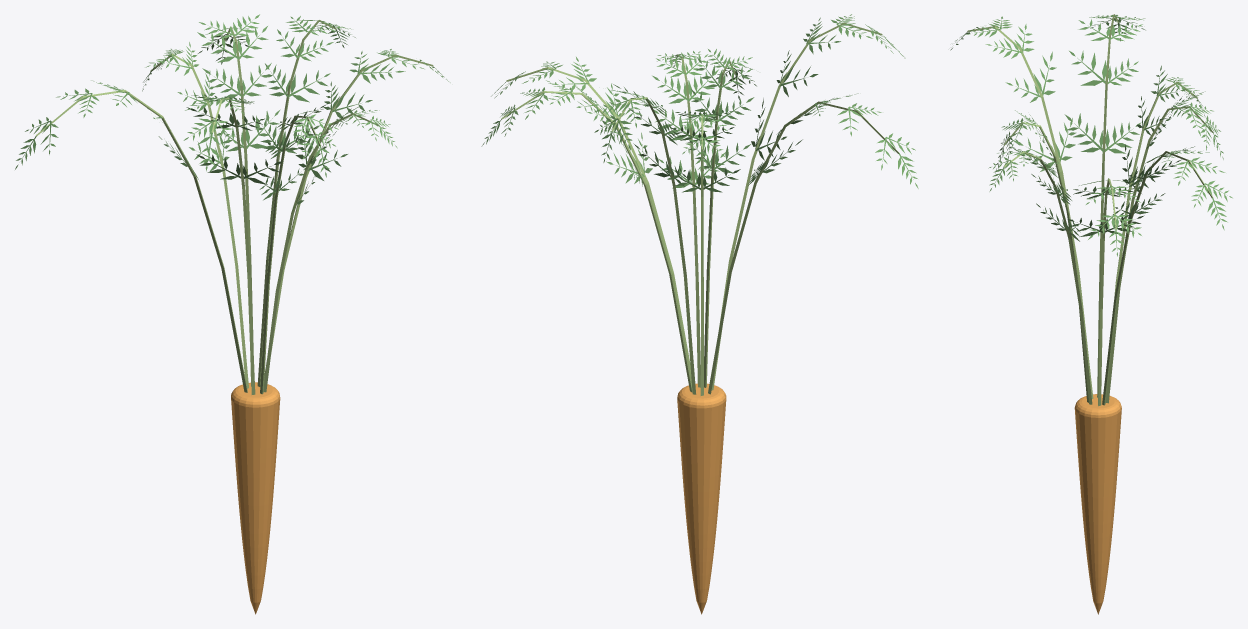
The model's file is carrot_harvest_v12.glb.
3 renders of one model, left to right at view 1: azimuth 30°, elevation 25°; view 2: azimuth 150°, elevation 25°; view 3: azimuth 270°, elevation 25°, orthographic. The views are drawn at different scales.
Parts seen in each view (by area): view 1: plant; view 2: plant; view 3: plant.
Boxes of the visible parts, x1,y1,x2,y2 form: plant: (15,14,450,614); plant: (481,14,918,614); plant: (950,14,1232,614).
Bounding box in the file's own units: 0.3507 × 0.4461 × 0.2114.
Materials: 1 (1 with a texture image).
